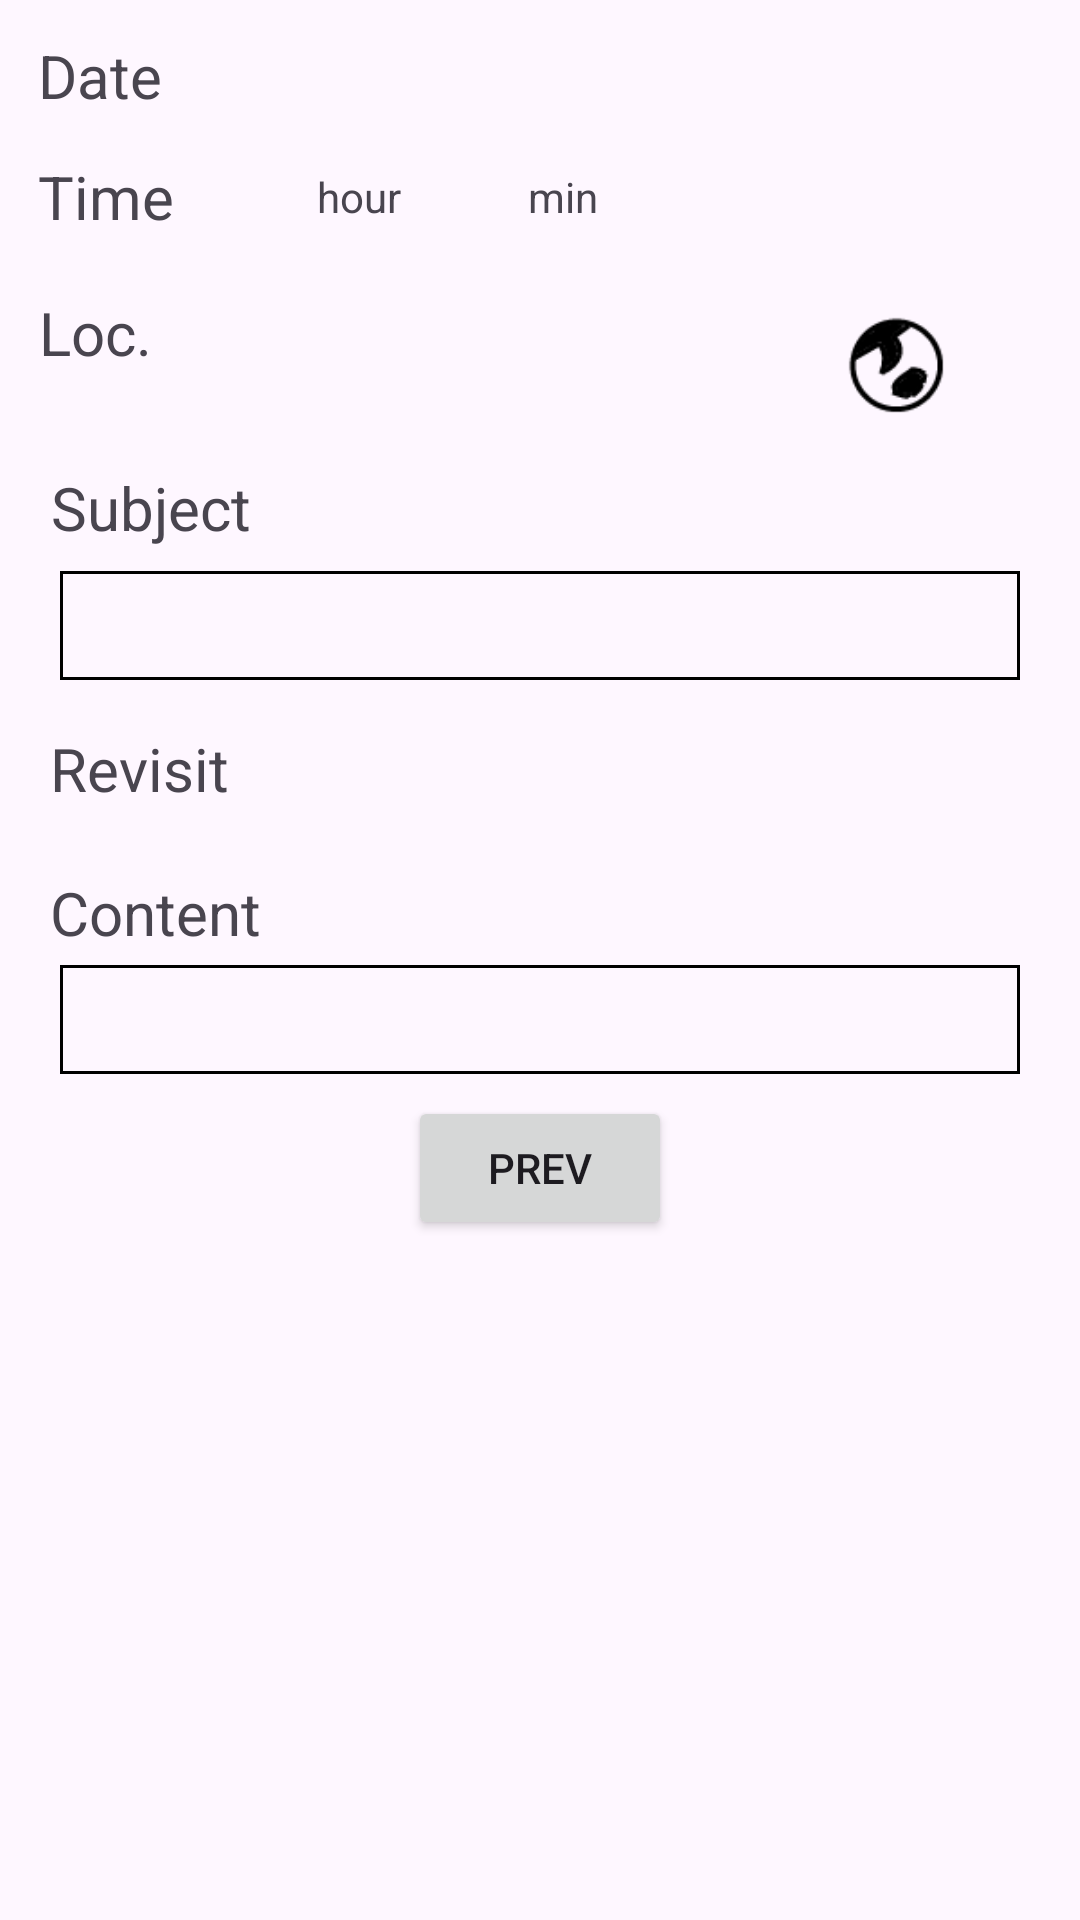

Screen size 1080w x 1920h. Icon name, then its box in pixels as (x1, y1, x2, y2):
earth: (849, 318, 944, 413)
